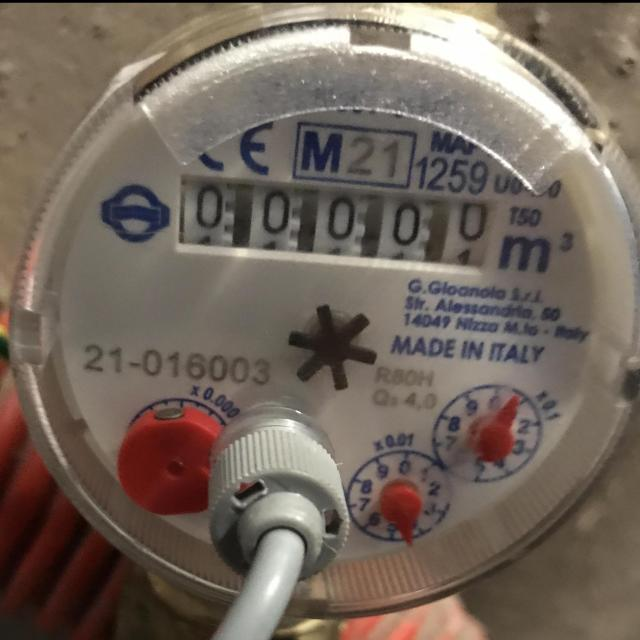gaz_meter: (23, 13, 638, 606)
indication: (178, 172, 501, 276)
